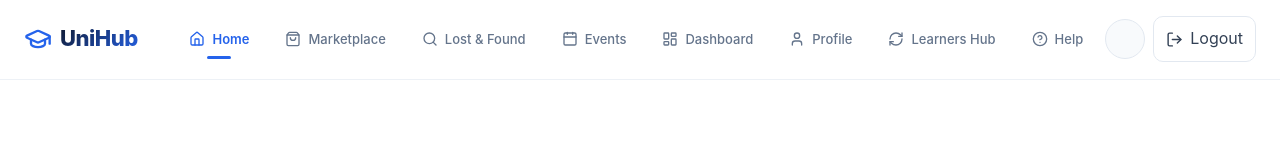
Test: Navbar › displays an error when logout fails
Click the button "Logout" at x=1205, y=39, box 1153,16 -> 1256,62
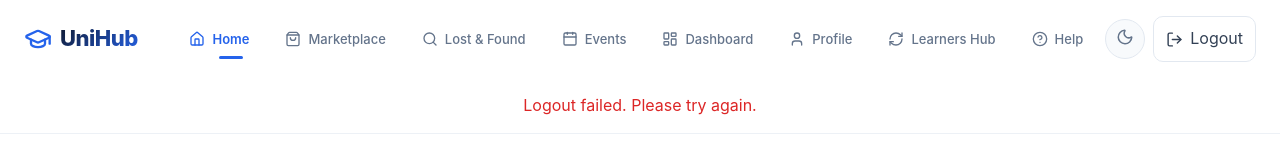
Expected: the message reads "Logout failed. Please try again.", 523,95 -> 757,115
